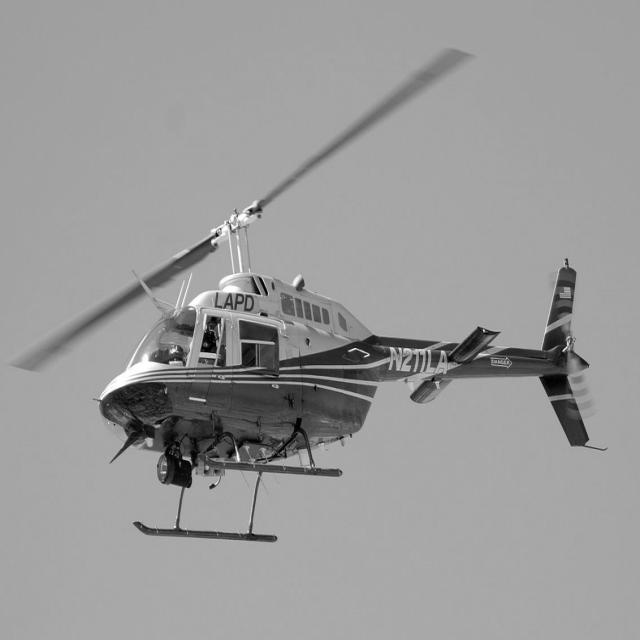helicopter: (10, 49, 596, 543)
